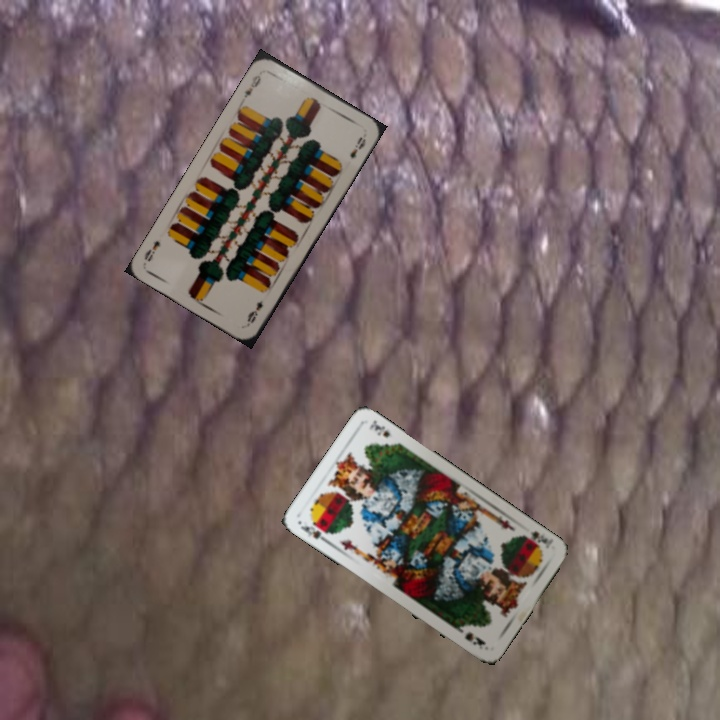E9: (238, 71, 264, 104), (243, 297, 266, 328)
SK: (296, 519, 332, 547), (517, 527, 550, 550)
